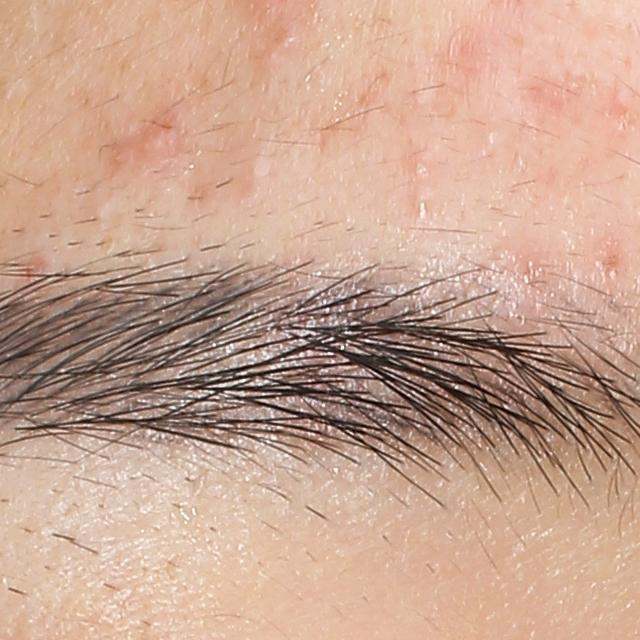comedo: (408, 154, 438, 184)
papule: (136, 119, 181, 165)
